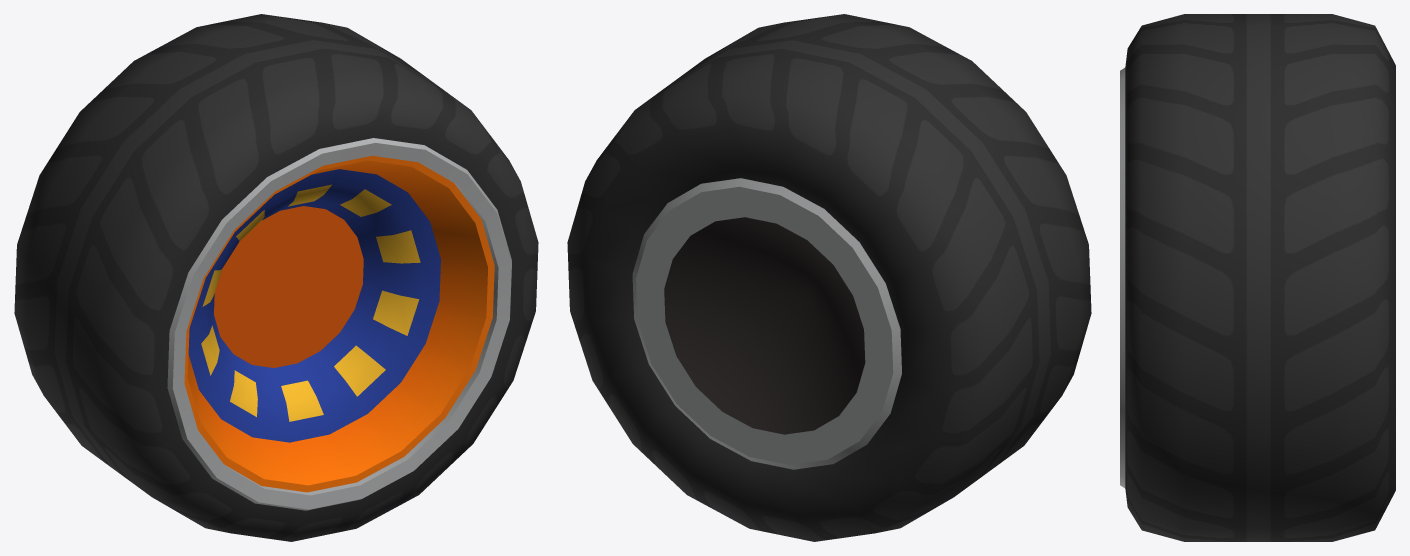
Rendered from Wheel_01.fbx.
3 views of the same model, side by side, from view 1: azimuth 30°, elevation 25°; view 2: azimuth 150°, elevation 25°; view 3: azimuth 270°, elevation 25° (orthographic). The views are drawn at different scales.
Parts seen in each view (by area): view 1: Wheel_01; view 2: Wheel_01; view 3: Wheel_01.
Part boxes in pixels (x1=…): Wheel_01: x1=14, y1=14, x2=538, y2=541; Wheel_01: x1=567, y1=14, x2=1091, y2=541; Wheel_01: x1=1120, y1=14, x2=1395, y2=541.
Bounding box in the file's own units: 95 × 50 × 95.
